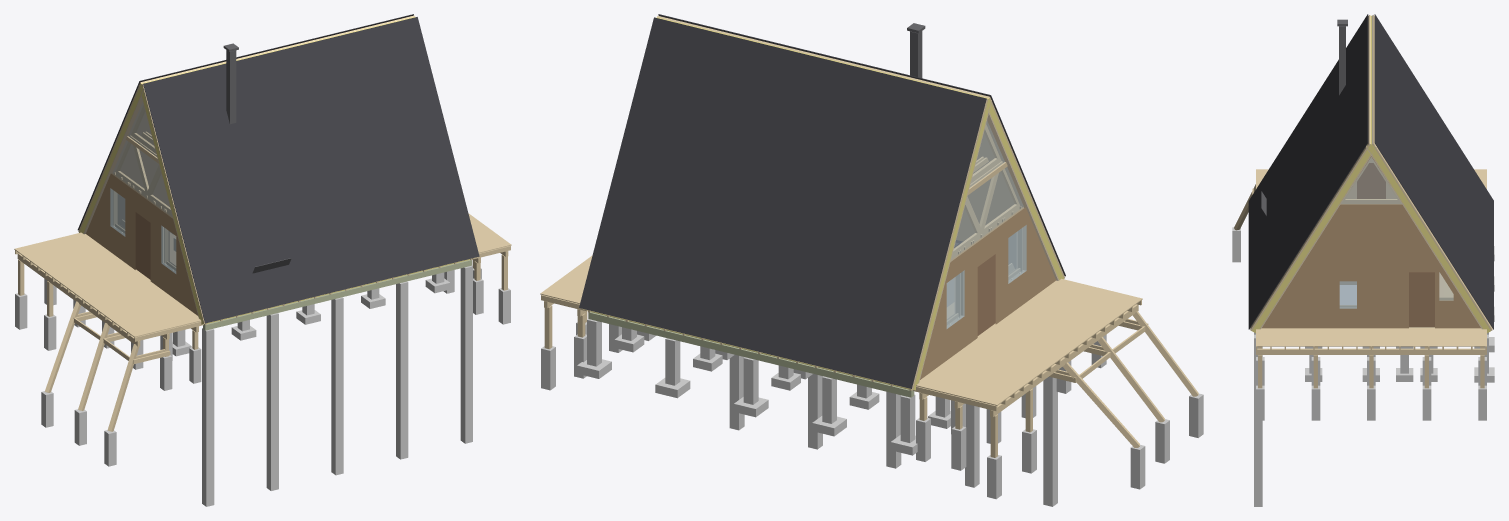
The model's file is cabin1.glb.
The picture shows the model from 3 angles, left to right: view 1: azimuth 30°, elevation 25°; view 2: azimuth 150°, elevation 25°; view 3: azimuth 270°, elevation 25°; orthographic projection. The views are drawn at different scales.
Parts seen in each view (by area): view 1: roof_sheet_N, decking_W, gable_W_logs, bored_pile_N0, bored_pile_N3, bored_pile_N2, bored_pile_N1, bored_pile_N4, pine_ceiling_S, beam_4, roof_insul_S, roof_insul_N (+15 smaller); view 2: roof_sheet_S, decking_W, gable_W_logs, pine_ceiling_N, beam_0, bored_pile_N0, roof_insul_N, roof_insul_S, door_W, roof_sheet_N, glazing_W2, bored_pile_N1 (+17 smaller); view 3: roof_sheet_S, gable_E_logs, roof_sheet_N, decking_E, roof_insul_N, roof_insul_S, glazing_E_top, door_E, deck_beam_E00.025, counter_battens_S, counter_battens_N, bored_pile_N4 (+12 smaller).
Part boxes in pixels (x1,y1,x2,y2): roof_sheet_N: (143, 17, 479, 323); decking_W: (14, 232, 201, 337); gable_W_logs: (86, 173, 197, 315); bored_pile_N0: (202, 328, 214, 506); bored_pile_N3: (396, 281, 408, 459); bored_pile_N2: (331, 297, 343, 475); bored_pile_N1: (266, 313, 278, 490); bored_pile_N4: (460, 265, 472, 443); pine_ceiling_S: (84, 89, 169, 234); beam_4: (203, 260, 471, 330); roof_insul_S: (79, 17, 415, 233); roof_insul_N: (139, 84, 476, 324); roof_sheet_S: (579, 17, 986, 388); decking_W: (916, 278, 1142, 405); gable_W_logs: (920, 207, 1055, 379); pine_ceiling_N: (956, 105, 1058, 280); beam_0: (588, 312, 914, 397); bored_pile_N0: (1043, 376, 1057, 506); roof_insul_N: (656, 17, 1063, 279); roof_insul_S: (583, 99, 990, 390); door_W: (977, 254, 995, 335); roof_sheet_N: (658, 14, 1065, 276); glazing_W2: (985, 161, 1023, 234); bored_pile_N1: (965, 404, 979, 487); roof_sheet_S: (1374, 14, 1493, 329); gable_E_logs: (1262, 156, 1480, 328); roof_sheet_N: (1248, 14, 1368, 329); decking_E: (1256, 327, 1486, 346); roof_insul_N: (1252, 16, 1374, 332); roof_insul_S: (1367, 16, 1490, 332); glazing_E_top: (1341, 157, 1401, 203); door_E: (1409, 272, 1434, 326); deck_beam_E00.025: (1256, 349, 1486, 354); counter_battens_S: (1372, 15, 1492, 330); counter_battens_N: (1250, 15, 1370, 330); bored_pile_N4: (1254, 334, 1262, 506).
Size of the model in its own units: 16.25 by 15.04 by 9.09.
